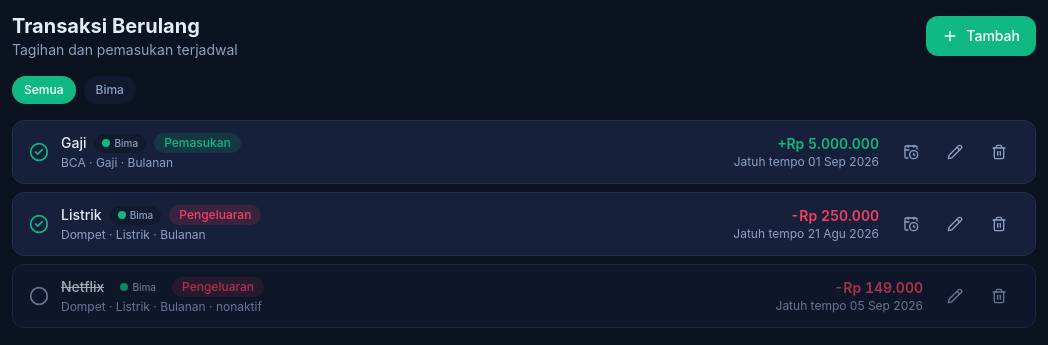
RecurringPage › guards against double record-now while a recording is pending
Expected: the text "Gaji" is shown, [61,133,86,153]
Click the button named "Catat sekarang" next to "Rp 5.000.000": [911, 152] box [891,138,931,166]
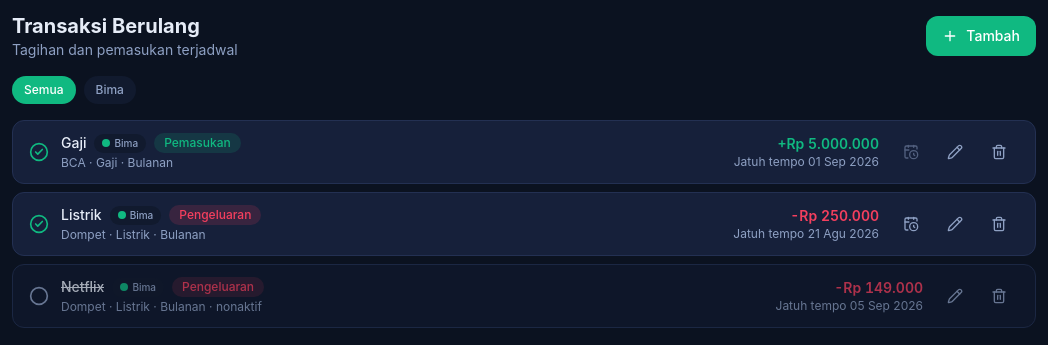
Expected: the button named "Catat sekarang" next to "Rp 5.000.000" is disabled, [891,138,931,166]
